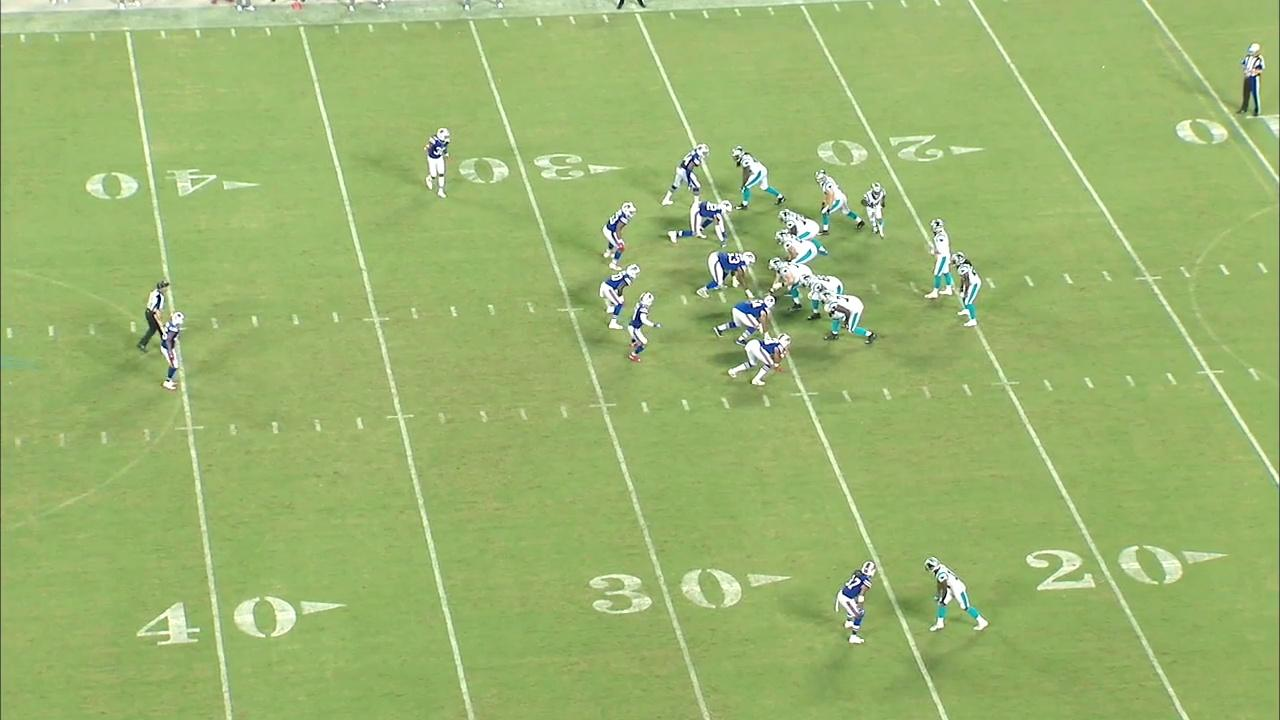player: (922, 554, 992, 635), (833, 558, 881, 647), (730, 143, 788, 212), (726, 332, 794, 387), (814, 166, 865, 238), (659, 142, 713, 208), (666, 198, 734, 249), (818, 290, 879, 346), (712, 295, 777, 346), (695, 250, 759, 300), (599, 263, 642, 331), (921, 216, 955, 301), (764, 256, 814, 313), (626, 290, 664, 365), (799, 273, 849, 329), (600, 200, 639, 271), (950, 250, 984, 328), (777, 207, 829, 257), (159, 309, 189, 393), (421, 126, 455, 200), (860, 181, 890, 240), (773, 229, 818, 265)
ref: (134, 278, 172, 359), (1233, 40, 1270, 121)
